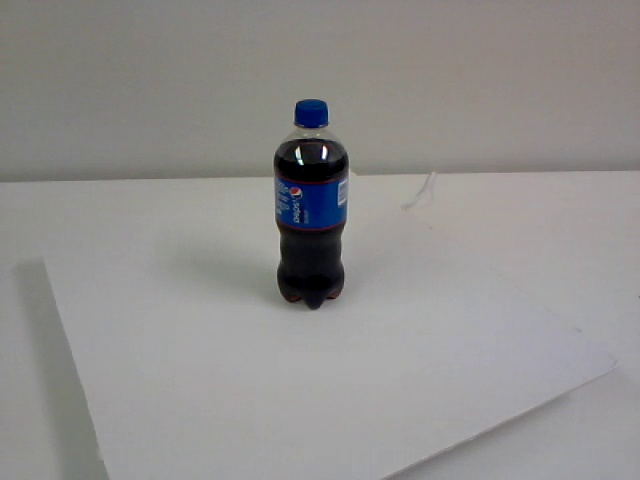botolplastik: (275, 100, 348, 309)
